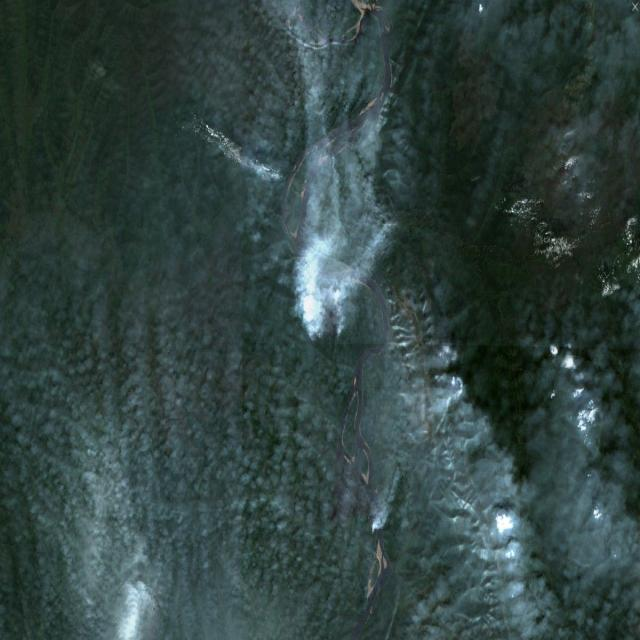fire: (299, 276, 346, 344)
